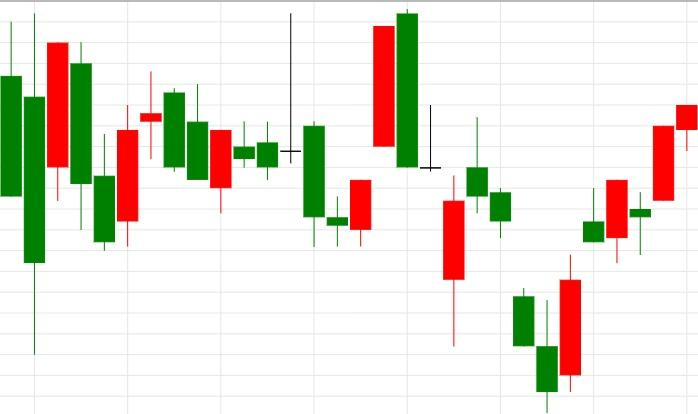bullish_engulfing_rise: (234, 13, 371, 246)
